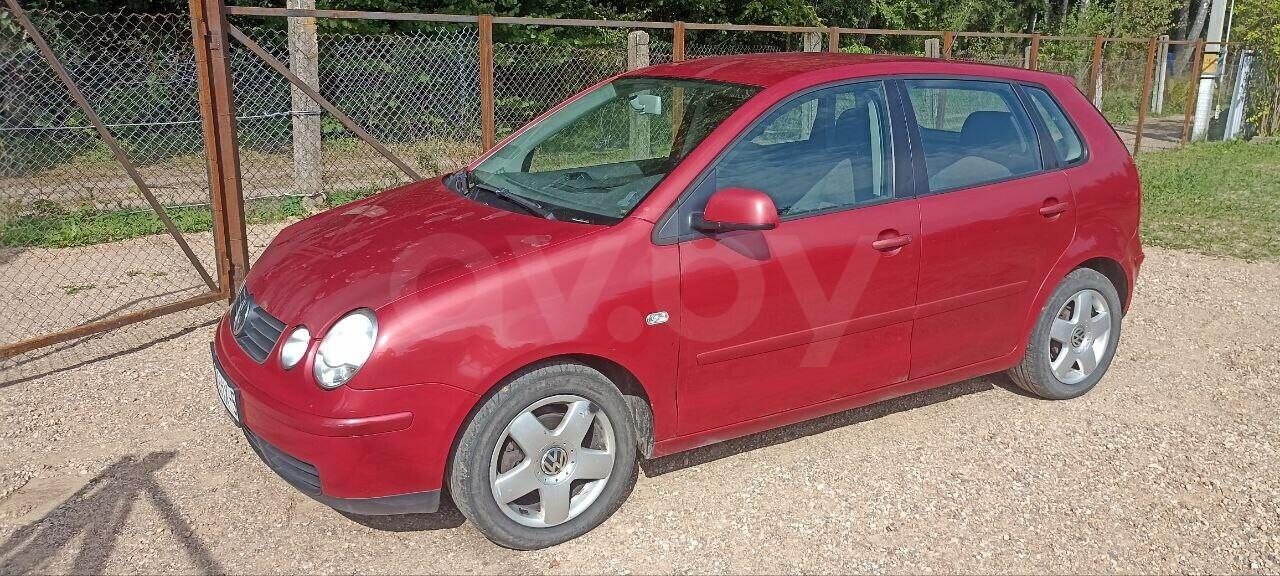Polo_2001-2005: (205, 43, 1141, 556)
